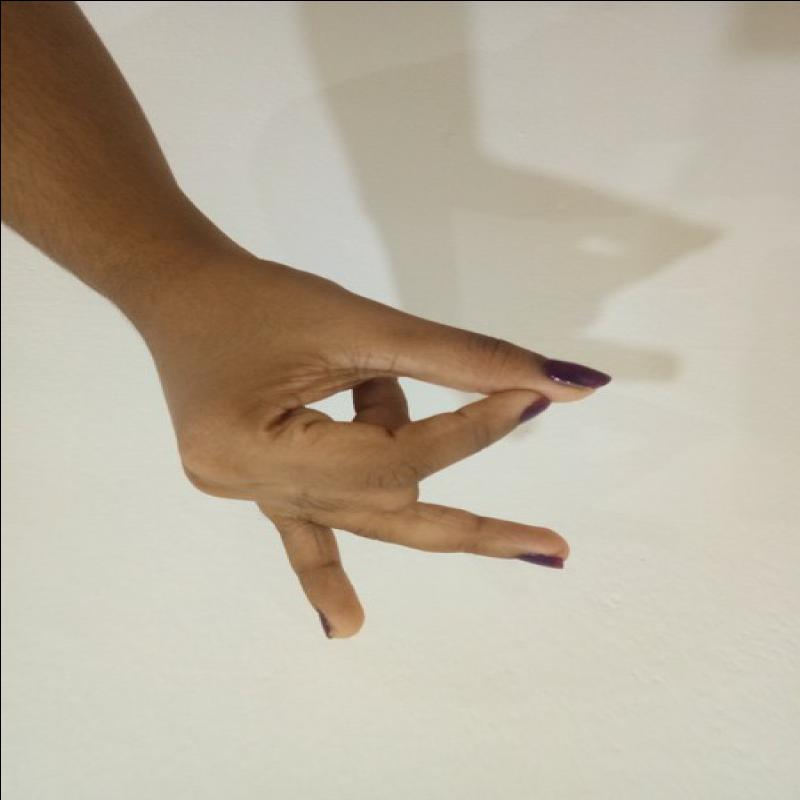Katakam: (115, 268, 638, 661)
